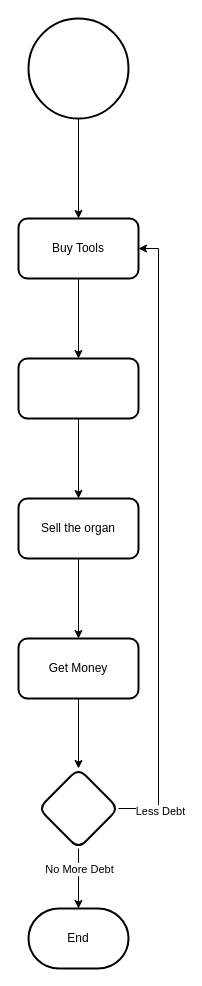
Some shapes in this 202 by 986 pixel diagram are drawn without their labels. The box of each missing label's shape, as (x1, y1, x2, y2) in pixels:
Harvest an organ: (17, 357, 139, 419)
Start: (27, 17, 129, 119)
